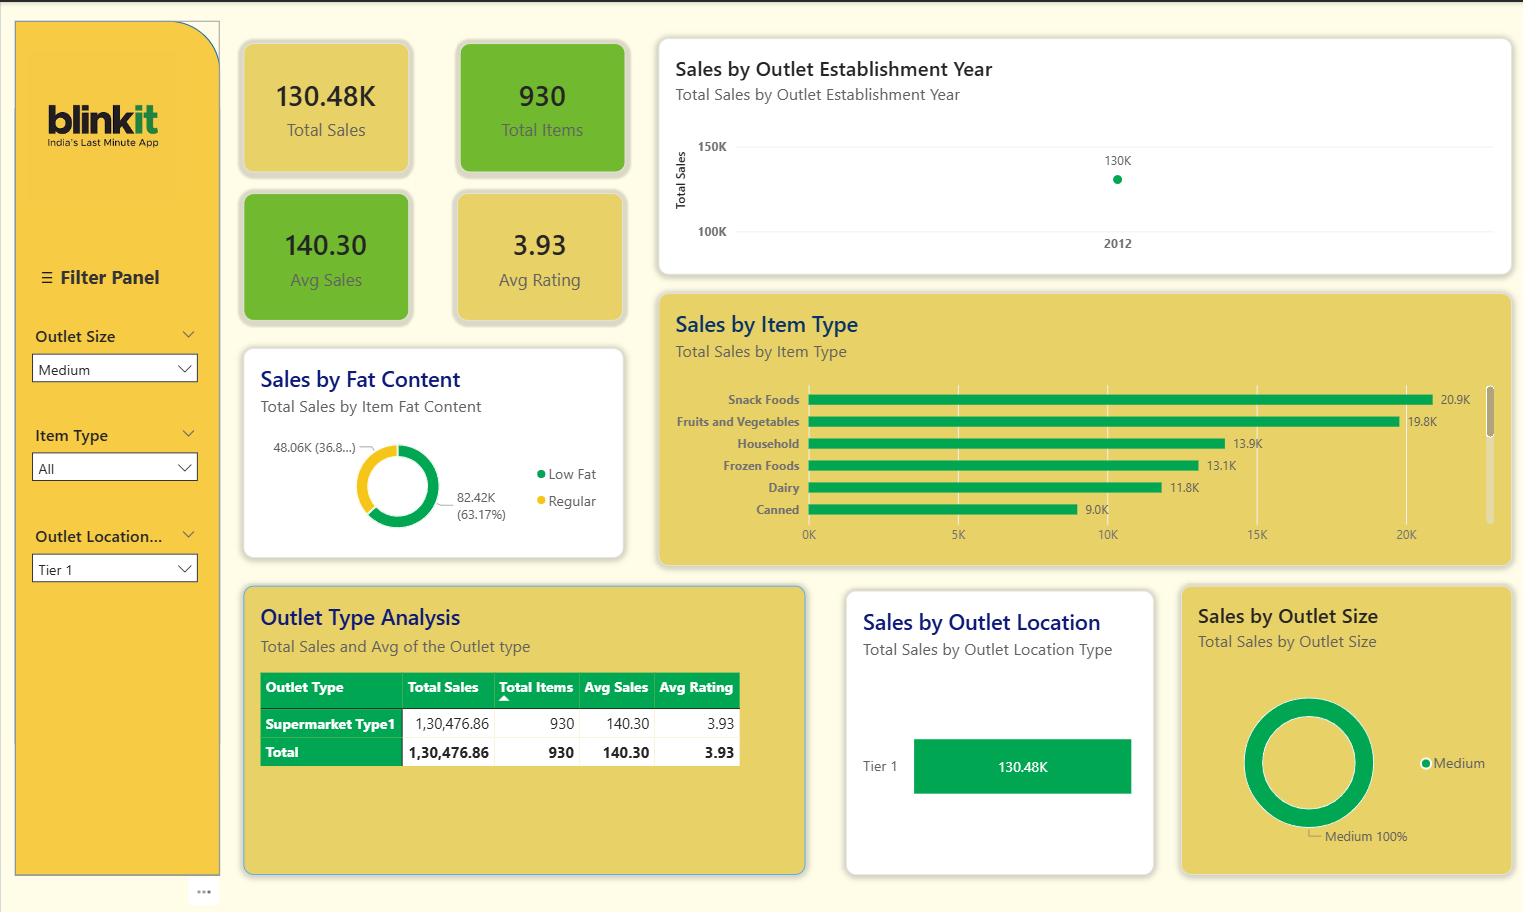

The dashboard page shown, as its layout file describes it:
{"tool":"powerbi","page":{"name":"Page 1","canvas":[1500,900],"ordinal":0},"visuals":[{"type":"card","fields":{"Values":["Key Measures.Total Sales"]},"box":[239,41.2,163.2,126.9],"z":0},{"type":"card","fields":{"Values":["Key Measures.Avg Sales"]},"box":[239,187.9,163.2,125.3],"z":1000},{"type":"card","fields":{"Values":["Key Measures.Avg Rating"]},"box":[450,187.9,163.2,125.3],"z":2000},{"type":"card","fields":{"Values":["Key Measures.Total Items"]},"box":[451.6,41.2,163.2,126.9],"z":3000},{"type":"donutChart","title":" Sales by Fat Content","fields":{"Category":["BlinkIT-Grocery-Data.Item Fat Content"],"Y":["Key Measures.Total Sales"]},"box":[239,341.2,374.2,206],"z":4000},{"type":"clusteredBarChart","title":"Sales by Item Type","fields":{"Category":["BlinkIT-Grocery-Data.Item Type"],"Y":["Key Measures.Total Sales"]},"box":[647.8,286.8,840.7,268.7],"z":5000},{"type":"donutChart","title":"Sales by Outlet Size","fields":{"Category":["BlinkIT-Grocery-Data.Outlet Size"],"Y":["Key Measures.Total Sales"]},"box":[1162.1,575.3,326.4,285.2],"z":6000},{"type":"lineChart","title":"Sales by Outlet Establishment Year","fields":{"Category":["BlinkIT-Grocery-Data.Outlet Establishment Year"],"Y":["Key Measures.Total Sales"]},"box":[647.8,36.3,840.7,232.4],"z":7000},{"type":"pivotTable","title":"Outlet Type Analysis","fields":{"Rows":["BlinkIT-Grocery-Data.Outlet Type"],"Values":["Key Measures.Total Sales","Key Measures.Total Items","Key Measures.Avg Sales","Key Measures.Avg Rating"]},"box":[239,575.3,553.8,285.2],"z":8000},{"type":"funnel","title":" Sales by Outlet Location","fields":{"Category":["BlinkIT-Grocery-Data.Outlet Location Type"],"Y":["Key Measures.Total Sales"]},"box":[832.4,580.2,303.3,280.2],"z":12000},{"type":"shape","box":[13.2,18.1,202.7,842.3],"z":12750},{"type":"slicer","fields":{"Values":["BlinkIT-Grocery-Data.Outlet Location Type"]},"box":[26.4,514.3,173.1,65.9],"z":12812},{"type":"slicer","fields":{"Values":["BlinkIT-Grocery-Data.Outlet Size"]},"box":[26.4,318.1,173.1,64.3],"z":12875},{"type":"slicer","fields":{"Values":["BlinkIT-Grocery-Data.Item Type"]},"box":[26.4,415.4,173.1,67.6],"z":13000},{"type":"textbox","box":[25.9,251.2,160.1,35.7],"z":15500},{"type":"image","box":[25.6,42,148.6,161.9],"z":16501}]}

Visuals, with their boxes on the page's 1500x900 design canvas (x1, y1, x2, y2). These are canvas units, not pixel positions in the 1523x912 screenshot, which may show the page scaled, cropped or inside an application window:
card - Key Measures.Total Sales: x1=239, y1=41, x2=402, y2=168
card - Key Measures.Avg Sales: x1=239, y1=188, x2=402, y2=313
card - Key Measures.Avg Rating: x1=450, y1=188, x2=613, y2=313
card - Key Measures.Total Items: x1=452, y1=41, x2=615, y2=168
" Sales by Fat Content" donutChart: x1=239, y1=341, x2=613, y2=547
"Sales by Item Type" clusteredBarChart: x1=648, y1=287, x2=1488, y2=556
"Sales by Outlet Size" donutChart: x1=1162, y1=575, x2=1488, y2=860
"Sales by Outlet Establishment Year" lineChart: x1=648, y1=36, x2=1488, y2=269
"Outlet Type Analysis" pivotTable: x1=239, y1=575, x2=793, y2=860
" Sales by Outlet Location" funnel: x1=832, y1=580, x2=1136, y2=860
shape: x1=13, y1=18, x2=216, y2=860
slicer - BlinkIT-Grocery-Data.Outlet Location Type: x1=26, y1=514, x2=200, y2=580
slicer - BlinkIT-Grocery-Data.Outlet Size: x1=26, y1=318, x2=200, y2=382
slicer - BlinkIT-Grocery-Data.Item Type: x1=26, y1=415, x2=200, y2=483
textbox: x1=26, y1=251, x2=186, y2=287
image: x1=26, y1=42, x2=174, y2=204
